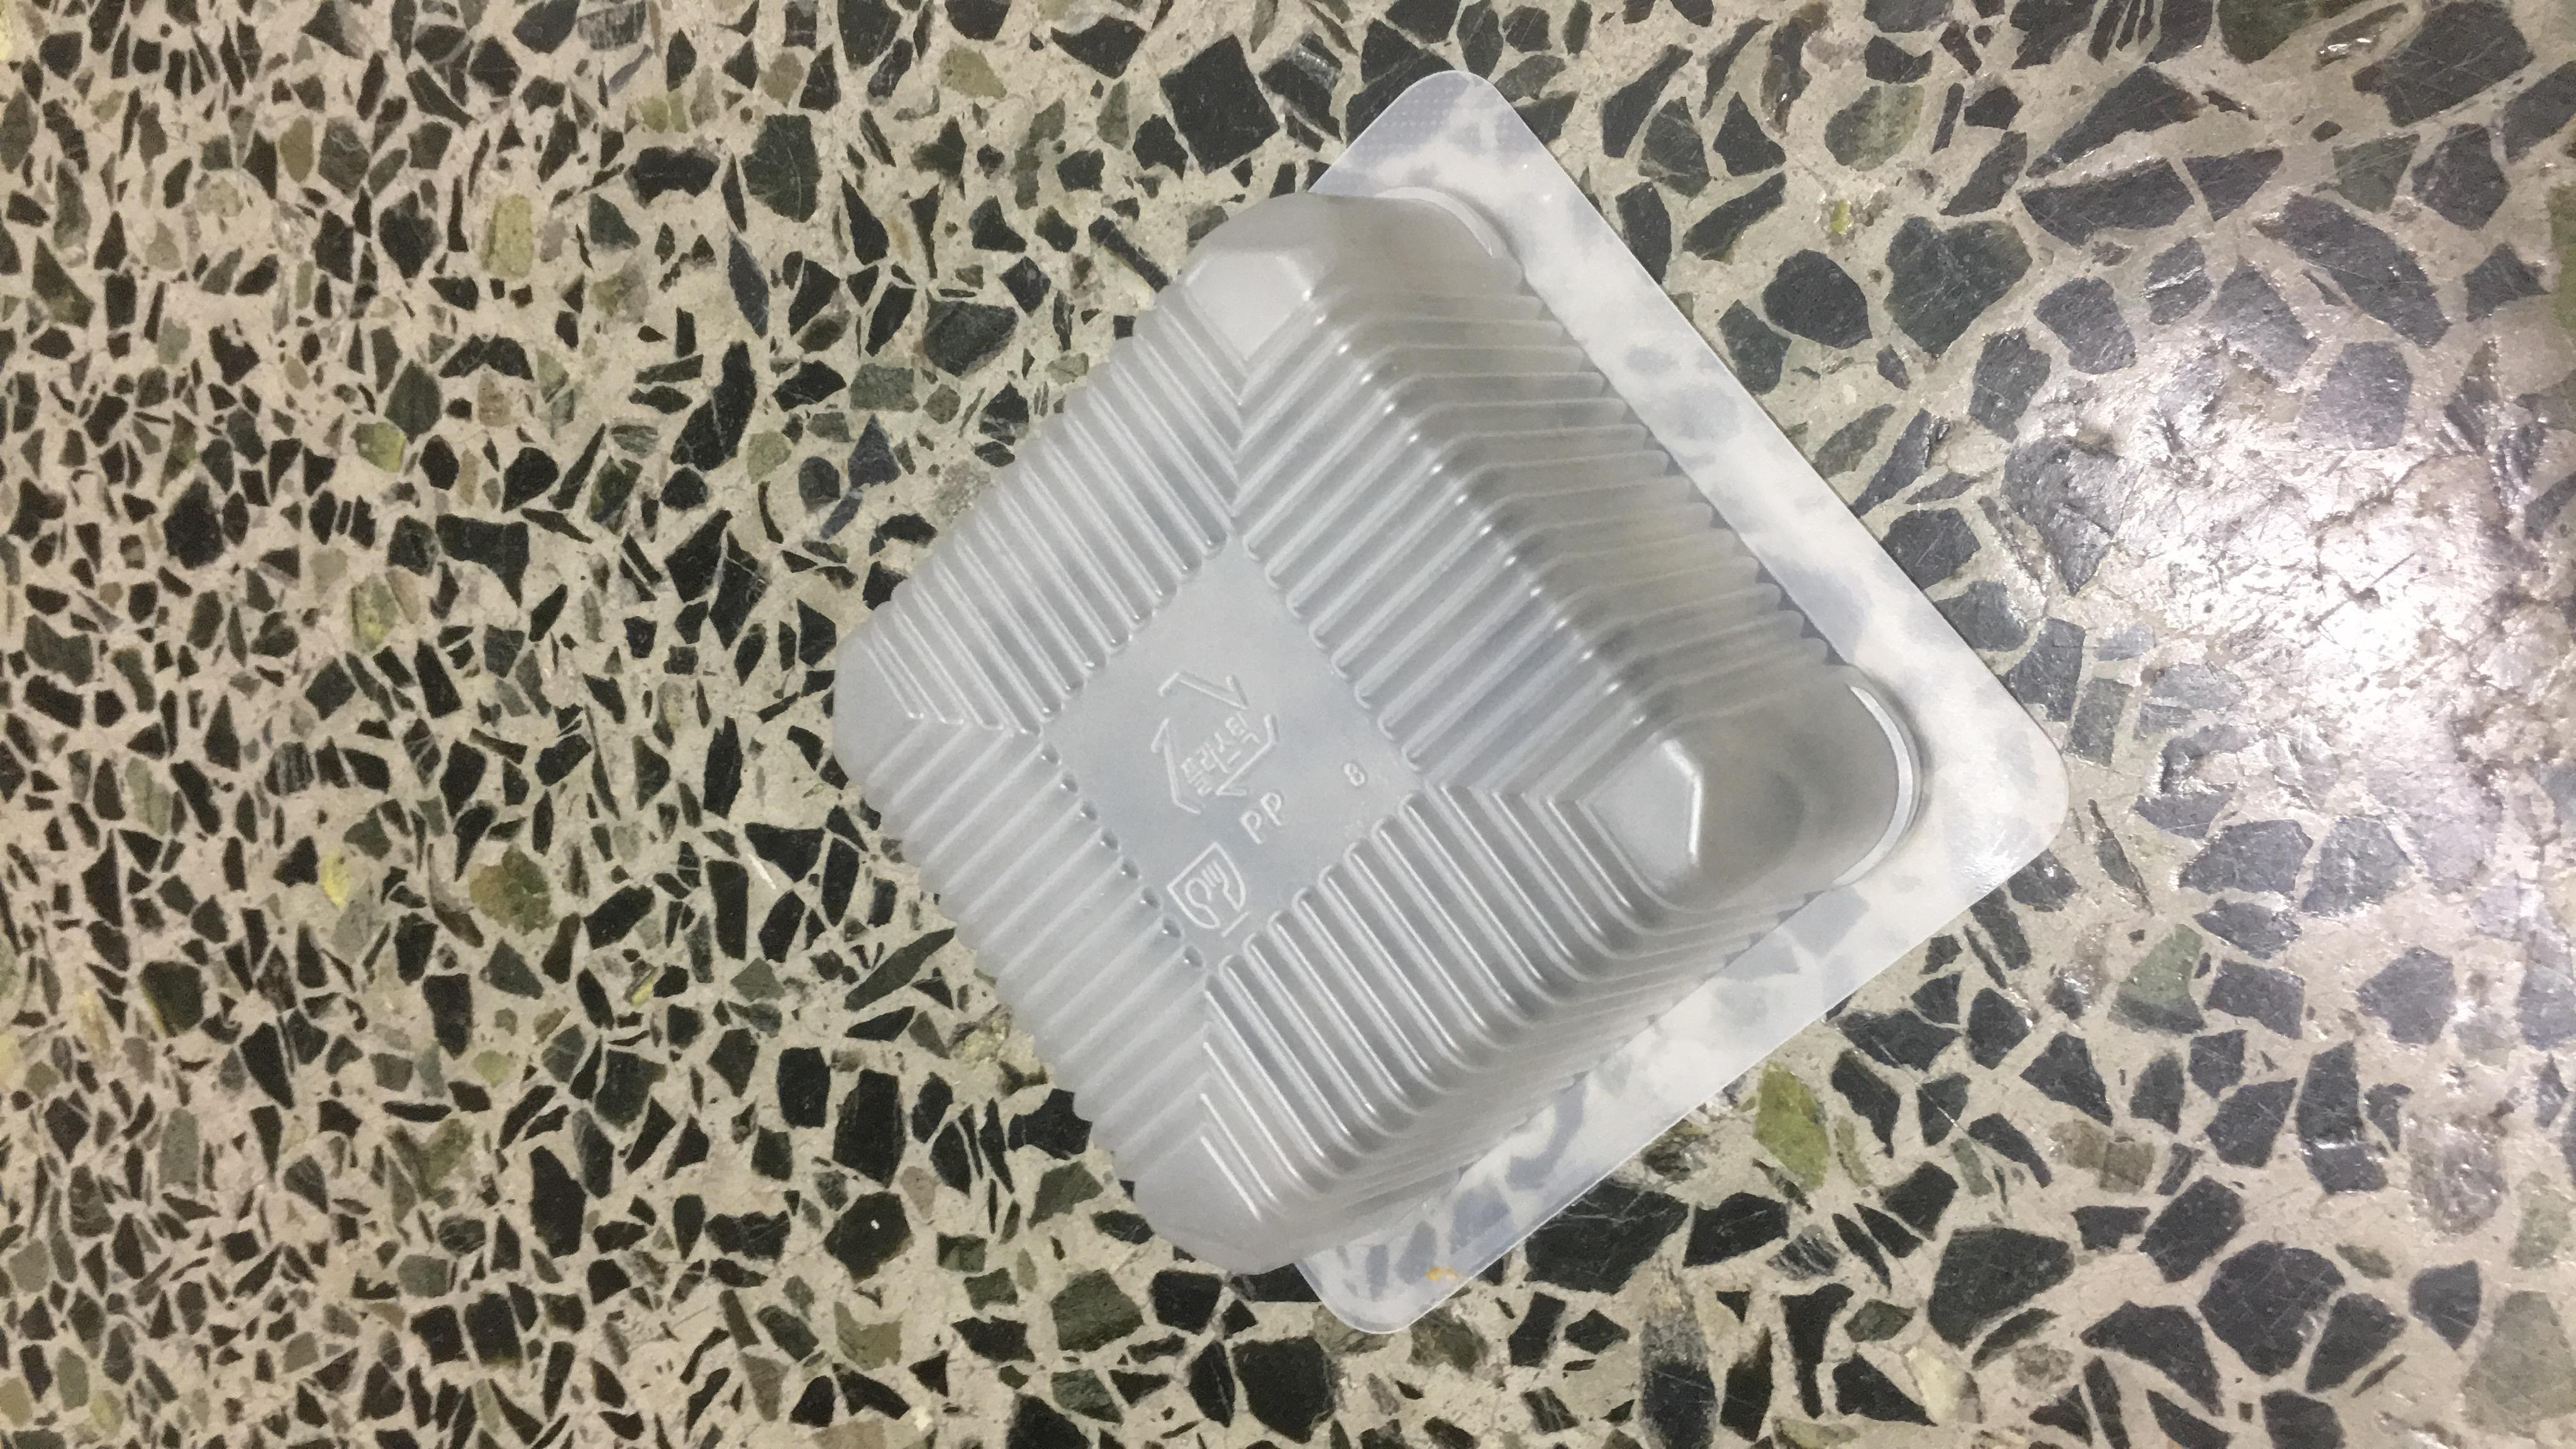bottle: (1362, 494, 1474, 1076)
